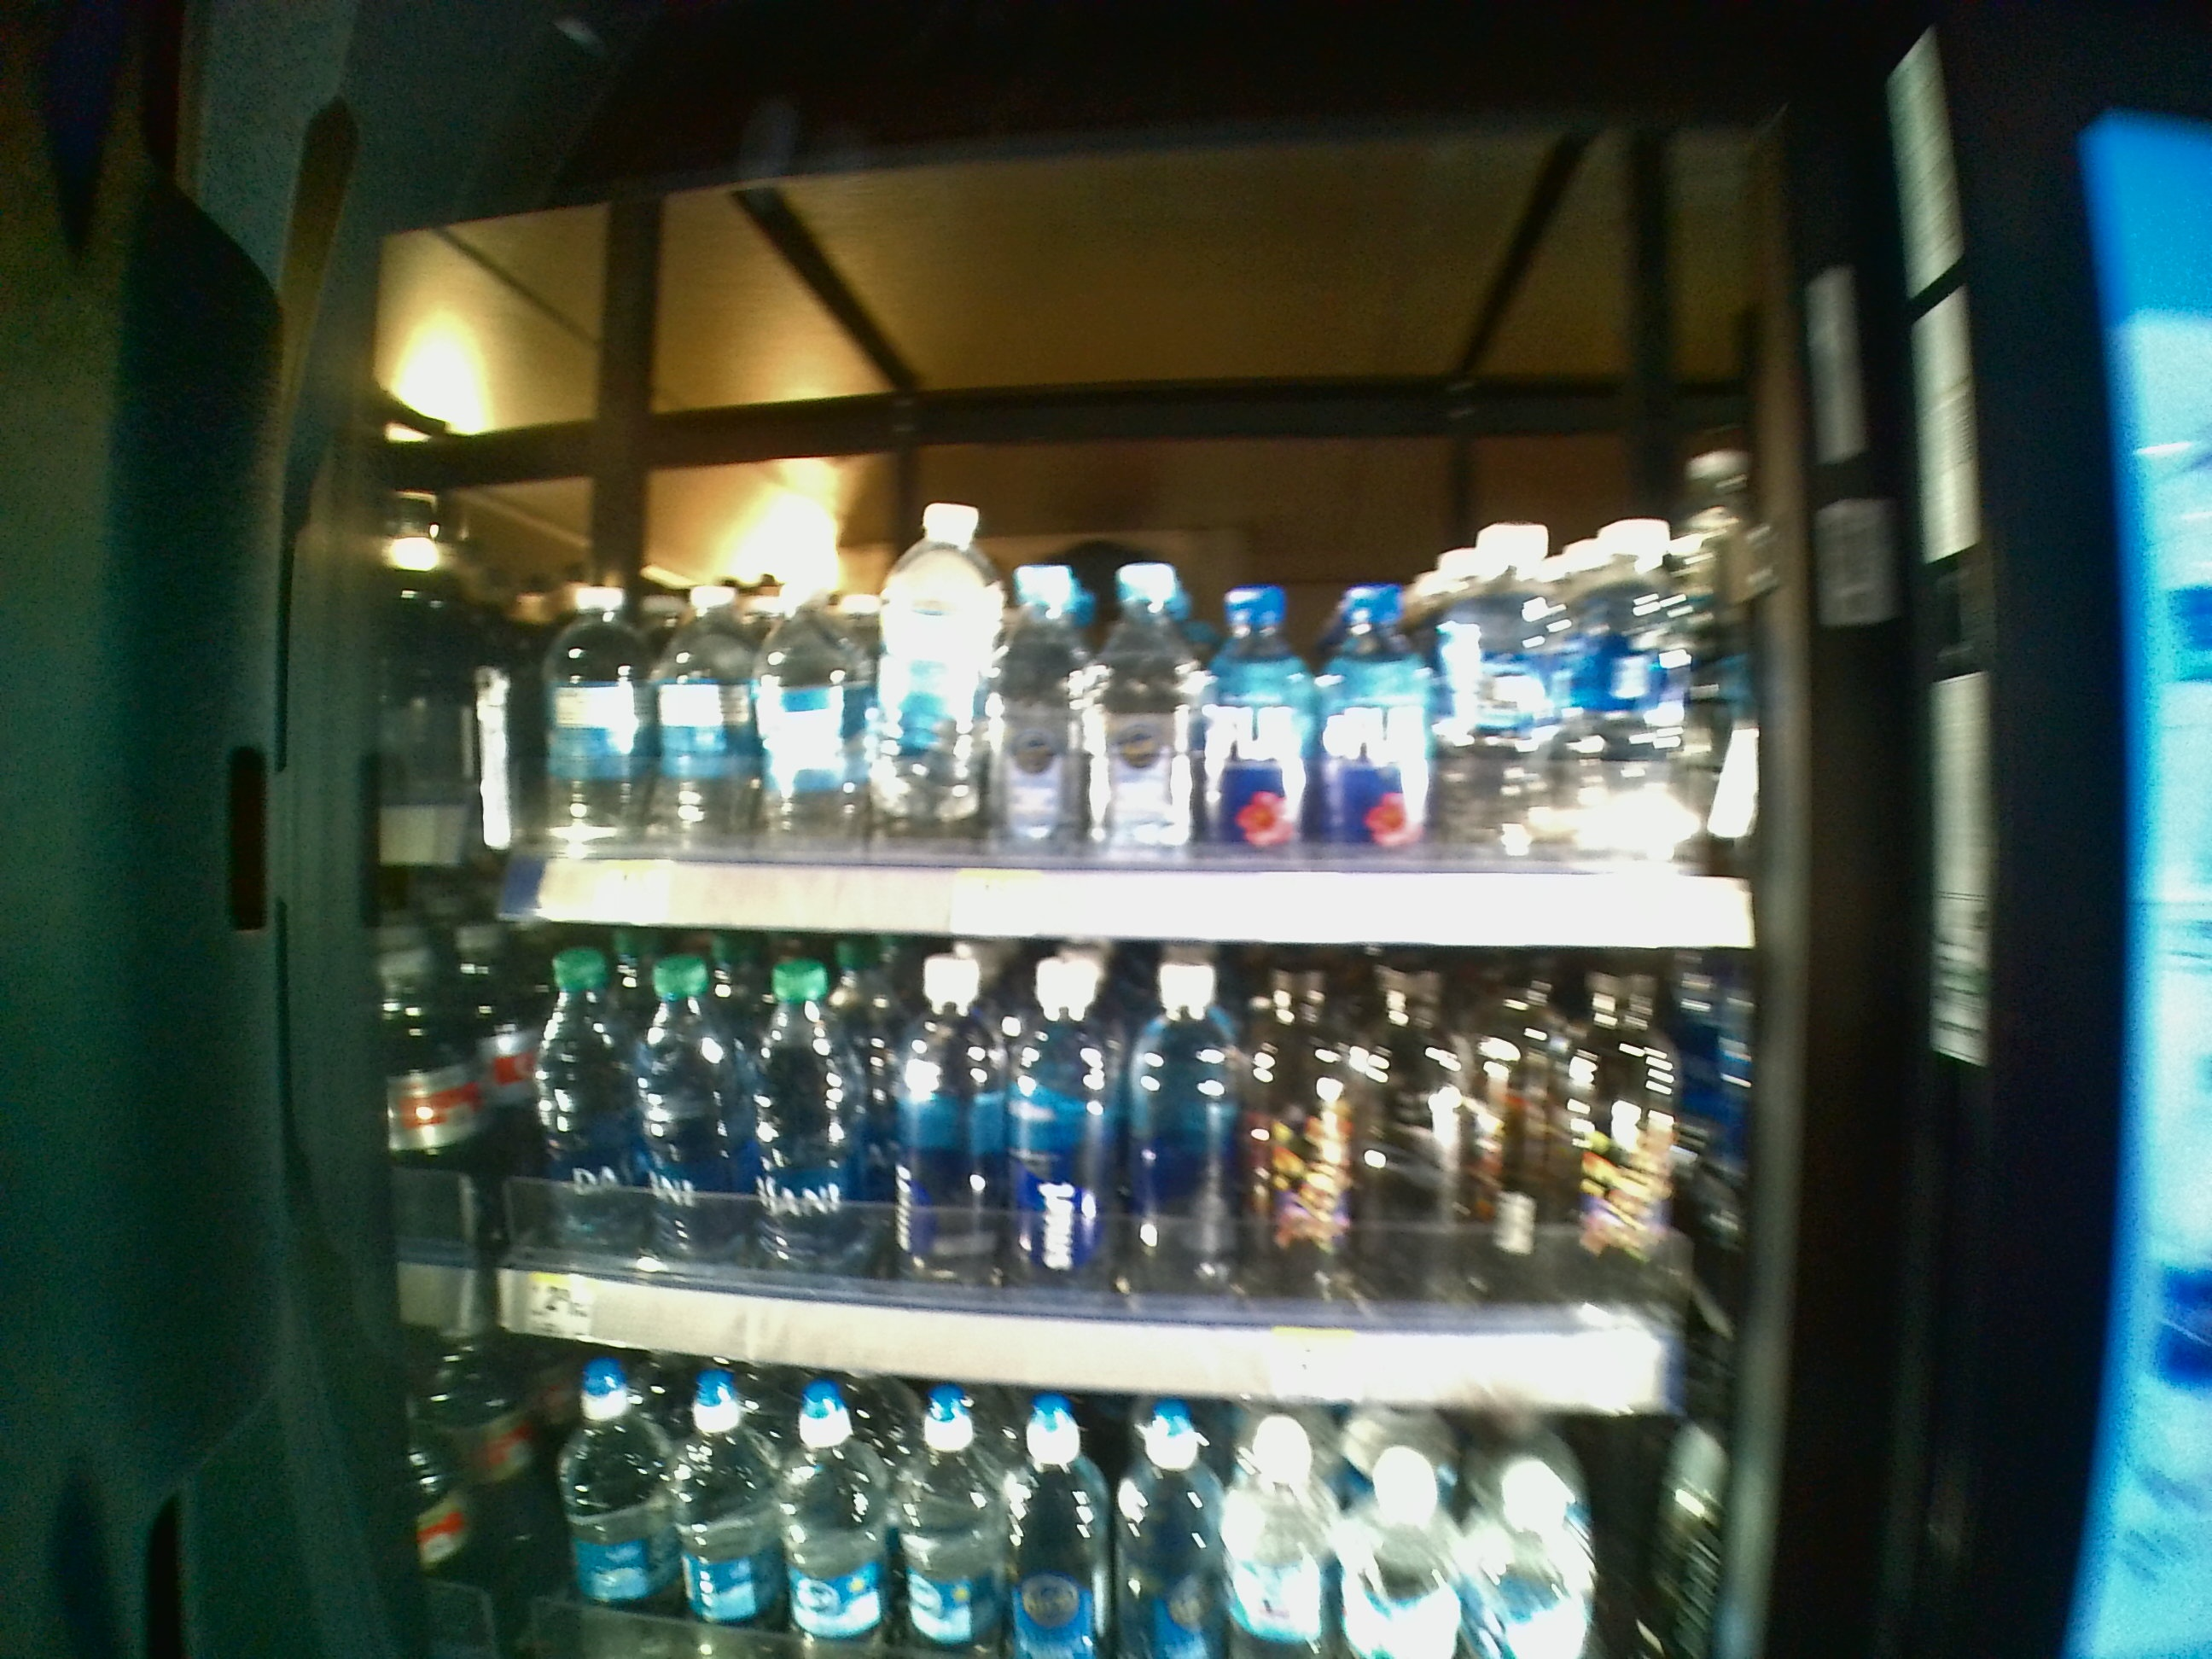Shelf: (477, 207, 1789, 948), (477, 950, 1792, 1422)
